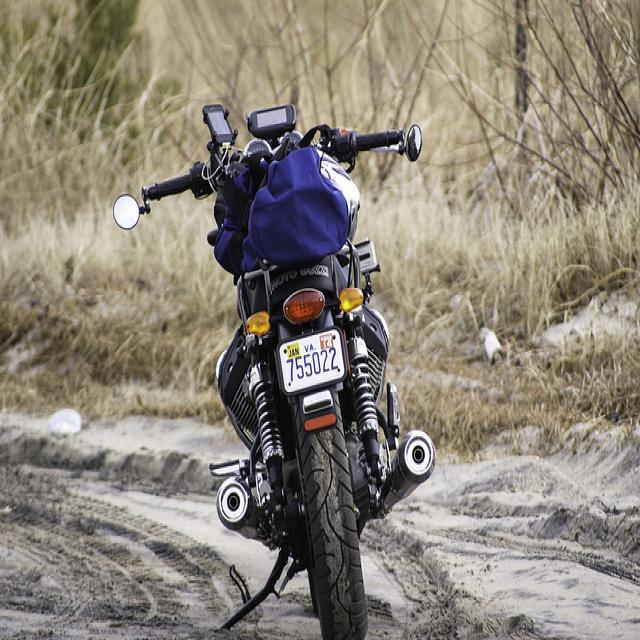motor: (114, 105, 435, 640)
